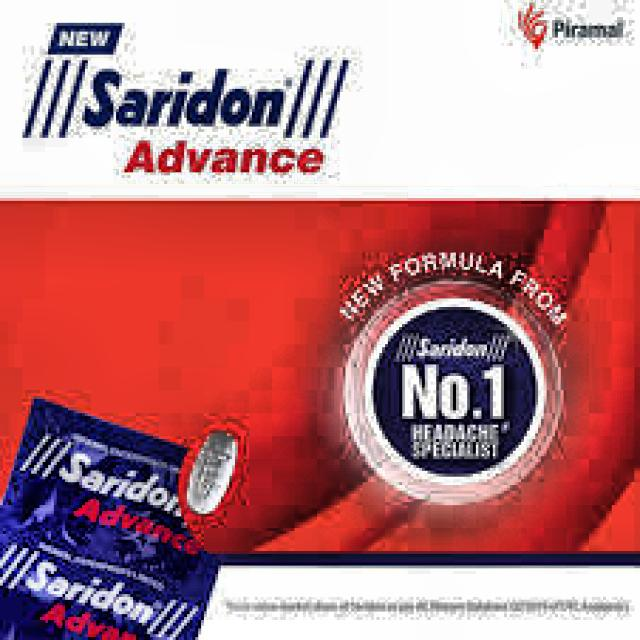Saridon: (22, 44, 336, 182)
